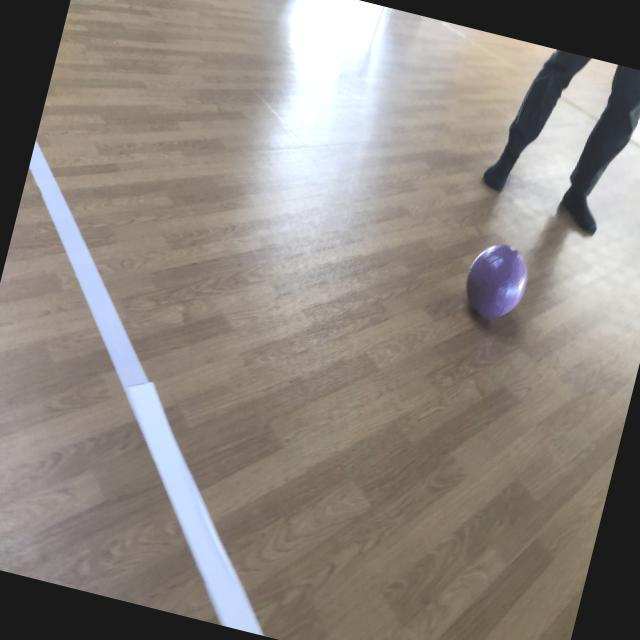purple_ball: (459, 235, 535, 326)
